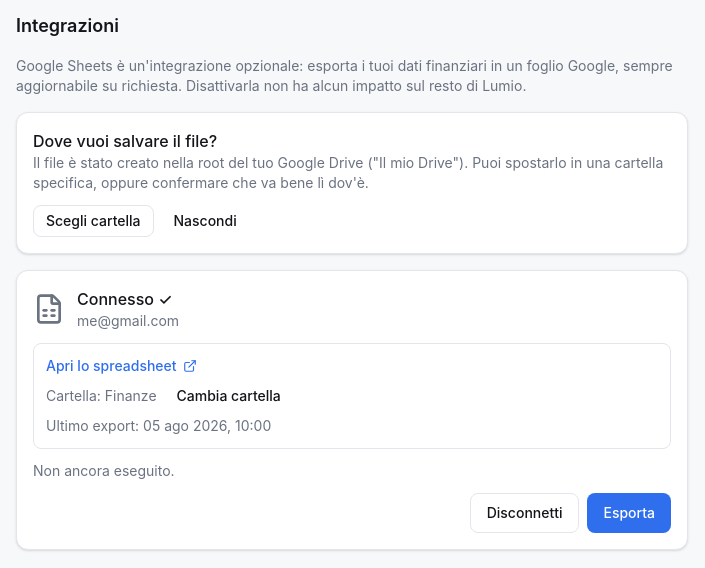
IntegrationsSettingsPage › mostra il prompt di scelta cartella subito dopo il redirect di connessione
Expected: the text "Dove vuoi salvare il file?" is shown, [33,131,217,151]
Click the button "Nascondi" at (205, 221), box [162,205,249,237]
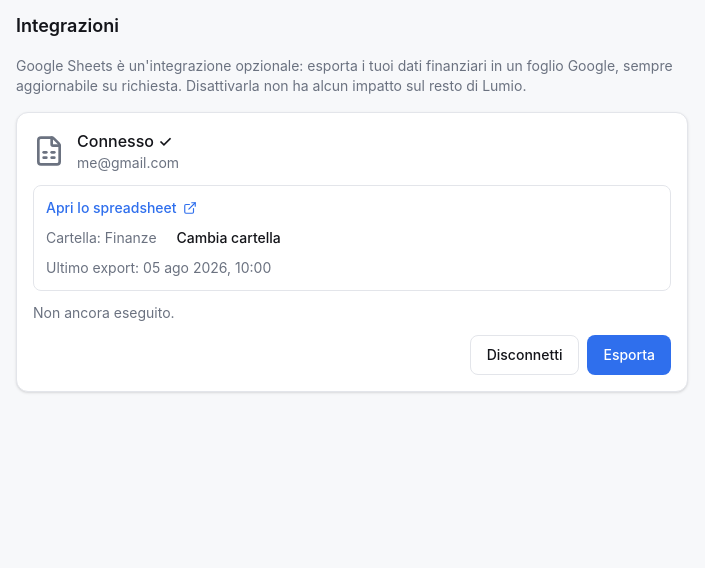
Expected: the text "Dove vuoi salvare il file?" is gone
